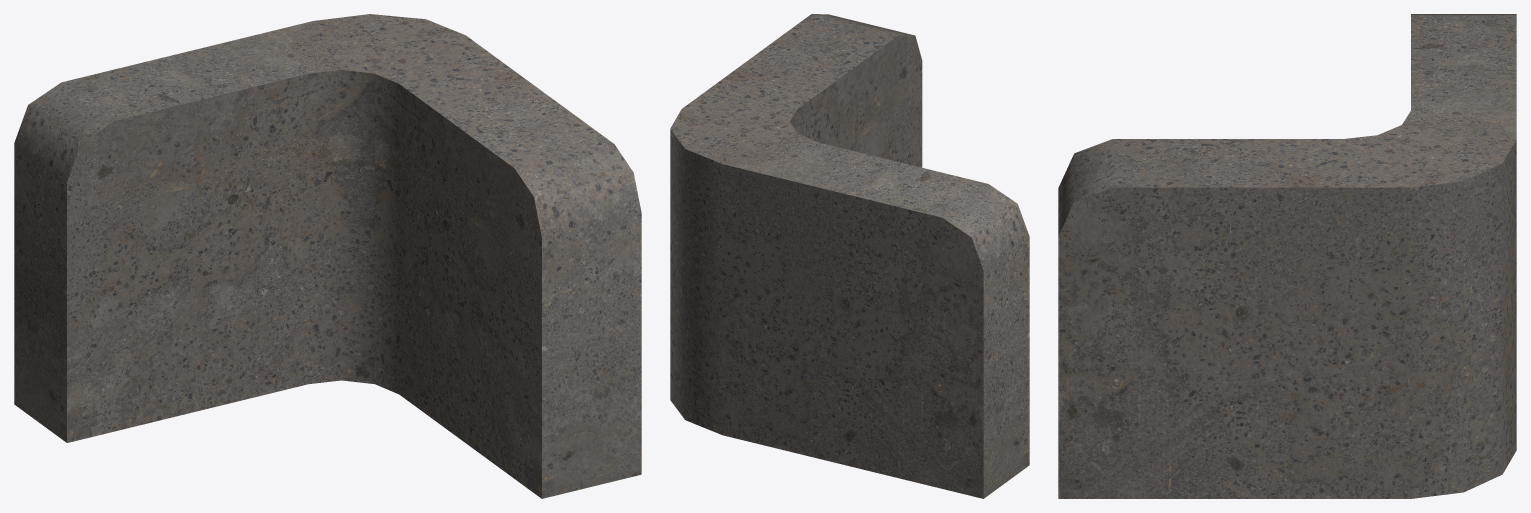
The model's file is Zasłona_3.fbx.
3 views of the same model, side by side, from view 1: azimuth 30°, elevation 25°; view 2: azimuth 150°, elevation 25°; view 3: azimuth 270°, elevation 25° (orthographic). The views are drawn at different scales.
Parts seen in each view (by area): view 1: Kloc_3; view 2: Kloc_3; view 3: Kloc_3.
Boxes of the visible parts, x1,y1,x2,y2 form: Kloc_3: (14, 14, 641, 498); Kloc_3: (670, 14, 1029, 498); Kloc_3: (1058, 14, 1516, 498).
Bounding box in the file's own units: 39.69 × 29.54 × 39.45.
